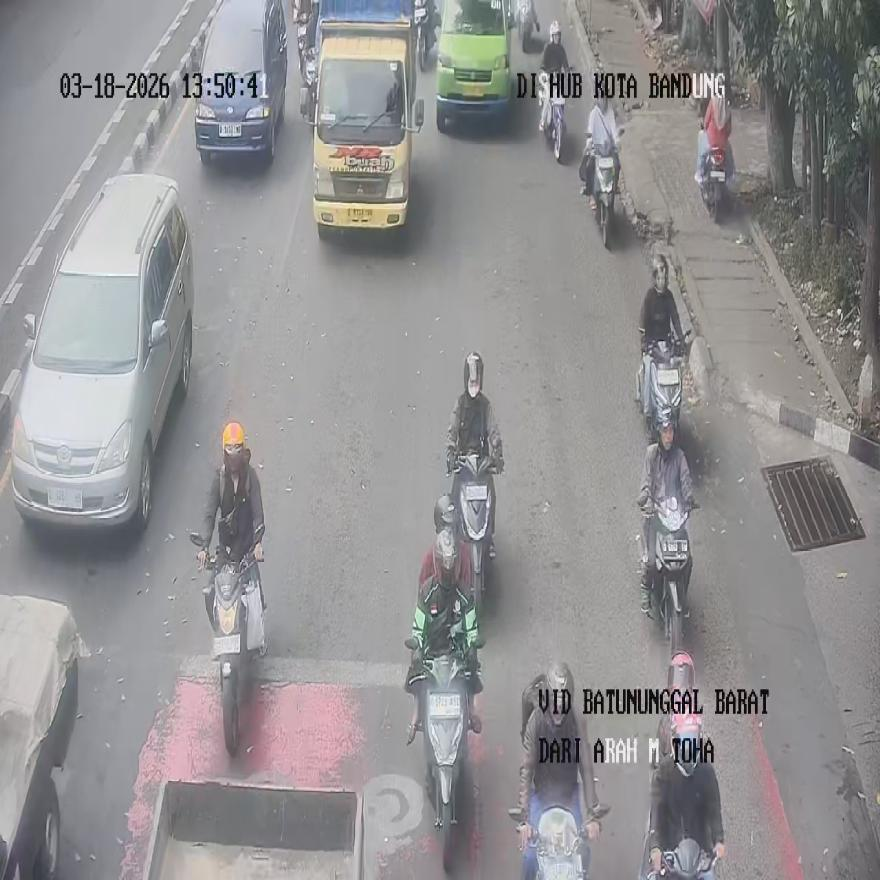Mobil: (9, 174, 192, 529), (304, 0, 423, 233), (192, 0, 287, 164), (434, 0, 514, 128)
Motor: (405, 634, 478, 872), (194, 529, 266, 754), (638, 495, 698, 656), (448, 454, 498, 614), (510, 802, 609, 880), (636, 334, 685, 446), (663, 651, 701, 778), (590, 143, 618, 249), (646, 838, 718, 879), (696, 128, 726, 222), (538, 68, 565, 162), (414, 0, 438, 71), (299, 36, 318, 122), (516, 0, 540, 51)
